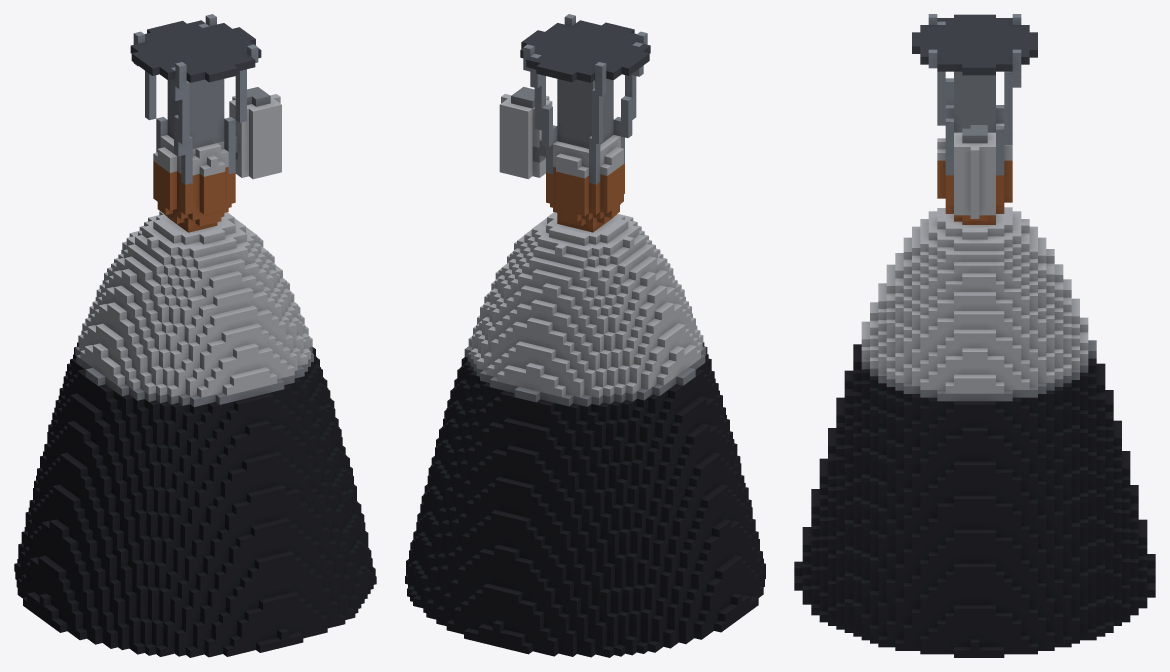
Rendered from eng_hidra_rl.glb.
3 renders of one model, left to right at view 1: azimuth 30°, elevation 25°; view 2: azimuth 150°, elevation 25°; view 3: azimuth 270°, elevation 25°, orthographic.
Visible parts, largest first — view 1: eng_hidra_rl; view 2: eng_hidra_rl; view 3: eng_hidra_rl.
Part boxes in pixels (box(x1,y1,x2,y2)): eng_hidra_rl: box(14, 14, 376, 657); eng_hidra_rl: box(405, 14, 765, 657); eng_hidra_rl: box(794, 14, 1155, 657).
Size of the model in its own units: 2.15 by 3.6 by 2.15.
